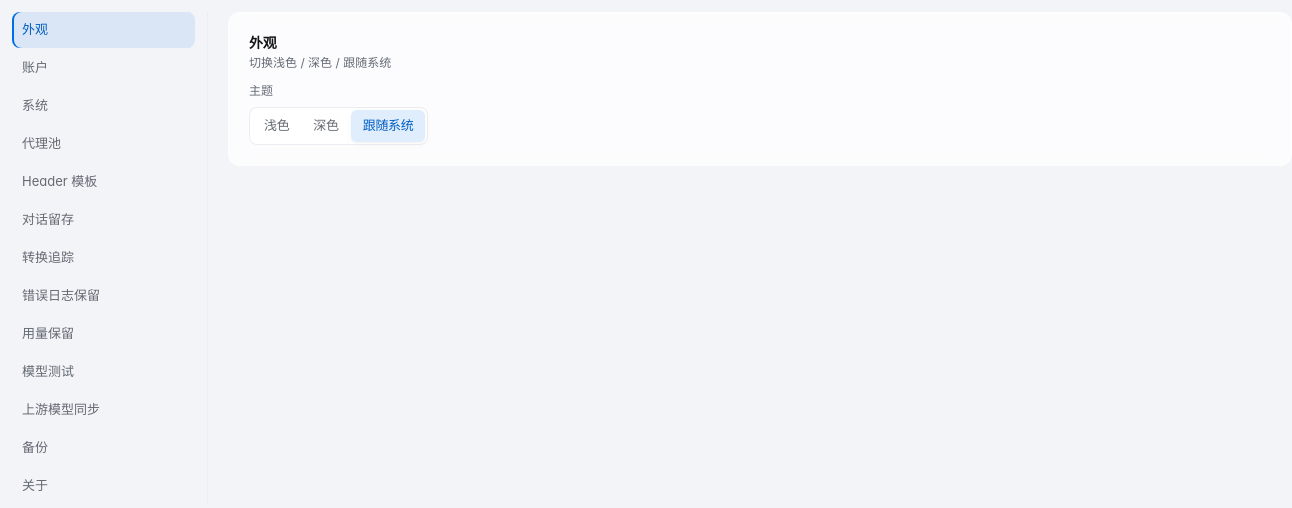
it: <SettingsPage /> RetentionField 同步 › query 拉到 5 后，input 显示 5
This screenshot has width=1292, height=508.
Click the button "错误日志保留": (104, 296) [12,278,195,314]
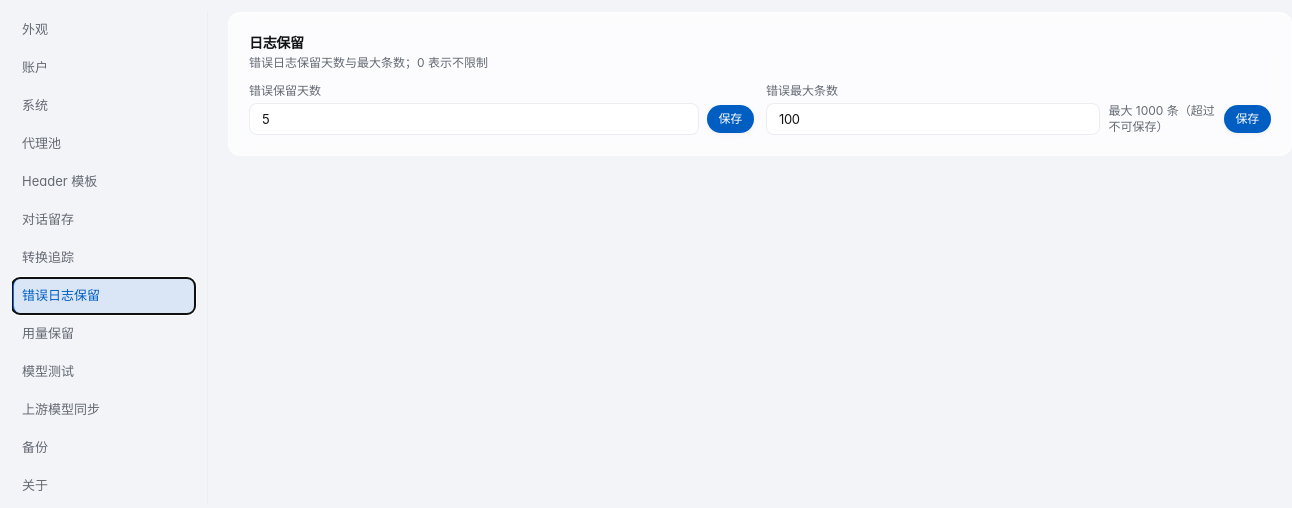
Expected: the number field labelled "错误保留天数 保存" holds "5", [249,103,699,135]
